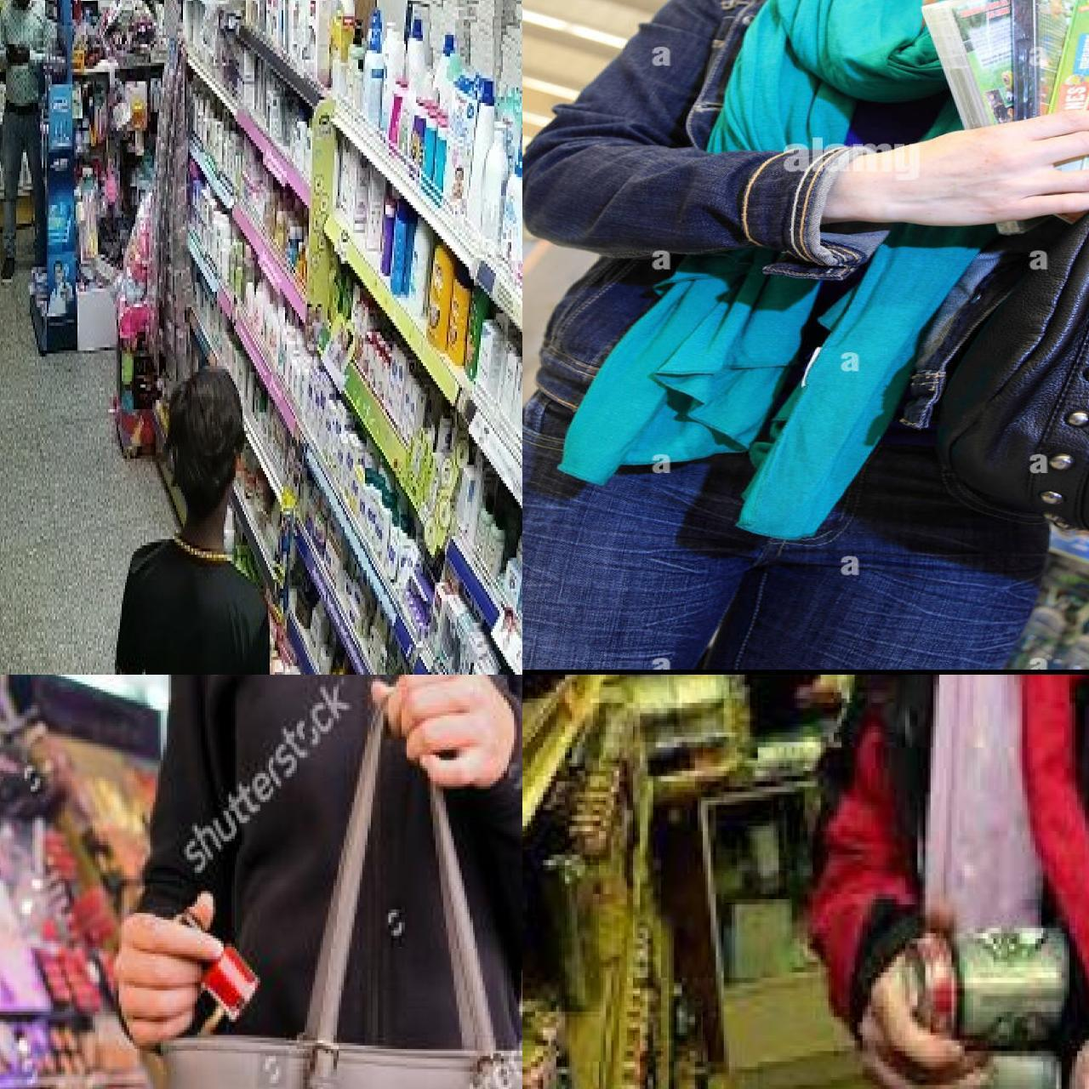shoplifting: (608, 0, 1089, 641), (576, 749, 1089, 1089), (0, 778, 533, 1089)
